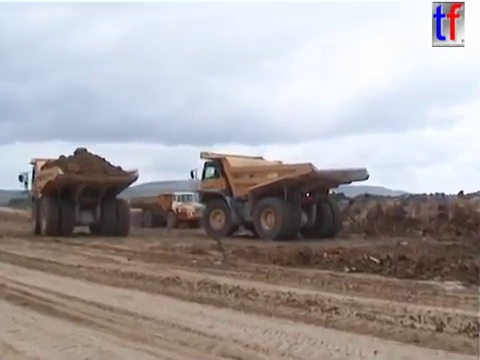truck: (189, 149, 373, 243), (17, 155, 139, 238), (129, 189, 208, 230)
